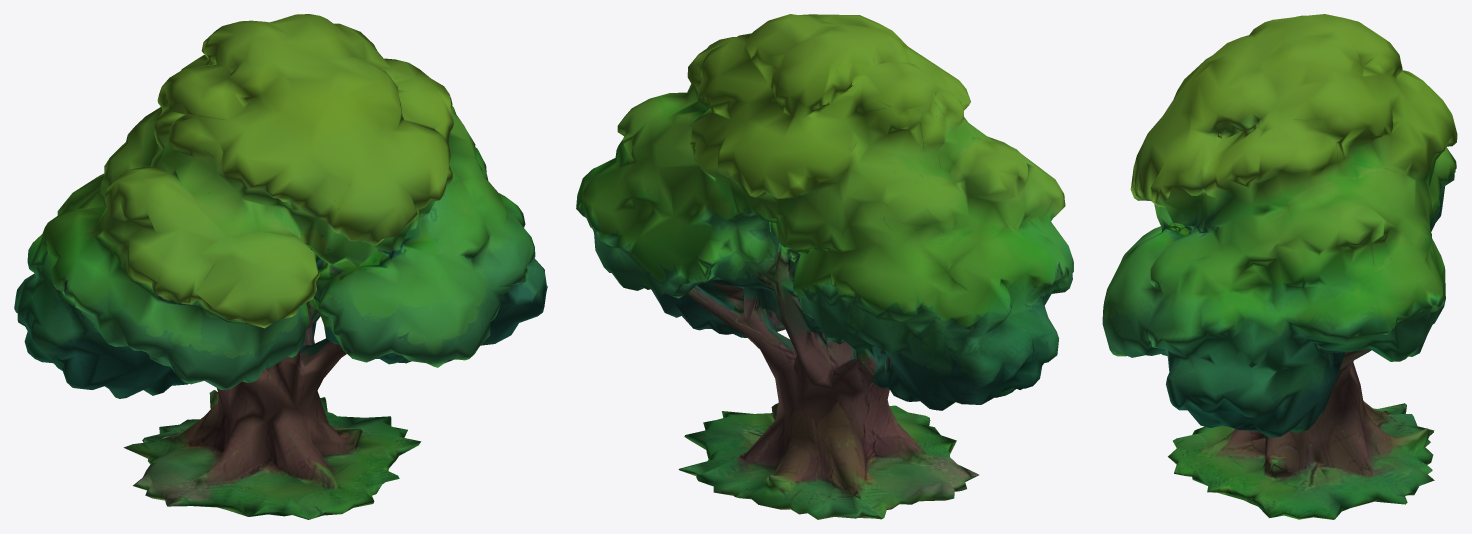
The model's file is treeA03.fbx.
3 renders of one model, left to right at view 1: azimuth 30°, elevation 25°; view 2: azimuth 150°, elevation 25°; view 3: azimuth 270°, elevation 25°, orthographic.
Parts seen in each view (by area): view 1: treeA03; view 2: treeA03; view 3: treeA03.
Part boxes in pixels (box(x1,y1,x2,y2)): treeA03: box(14, 14, 547, 519); treeA03: box(576, 14, 1073, 519); treeA03: box(1102, 14, 1457, 519).
Bounding box in the file's own units: 167 × 151 × 111.
Materials: 1 (1 with a texture image).
